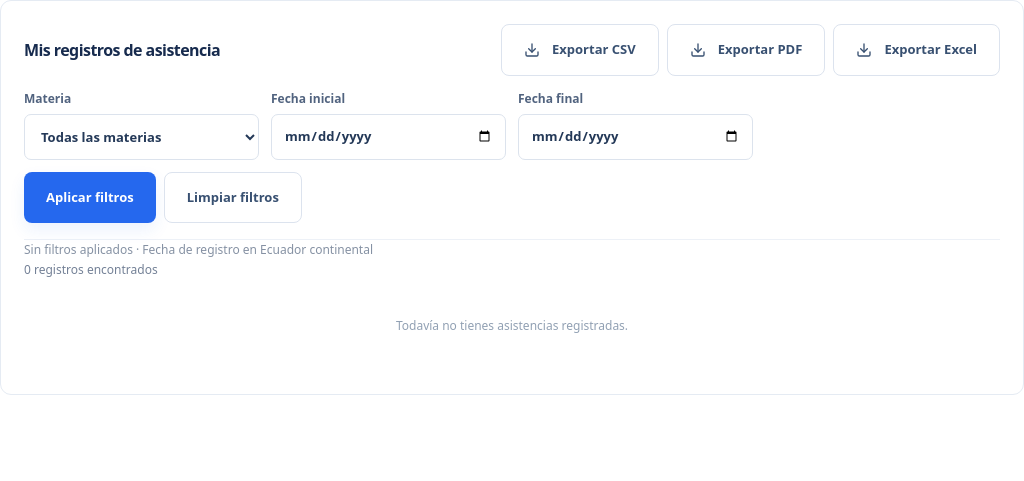
announces Excel errors and allows retry on empty results
Expected: the text "0 registros encontrados" is shown, [24,261,158,278]
Click the button "Exportar Excel" at x=917, y=50, box [833,24,1000,76]
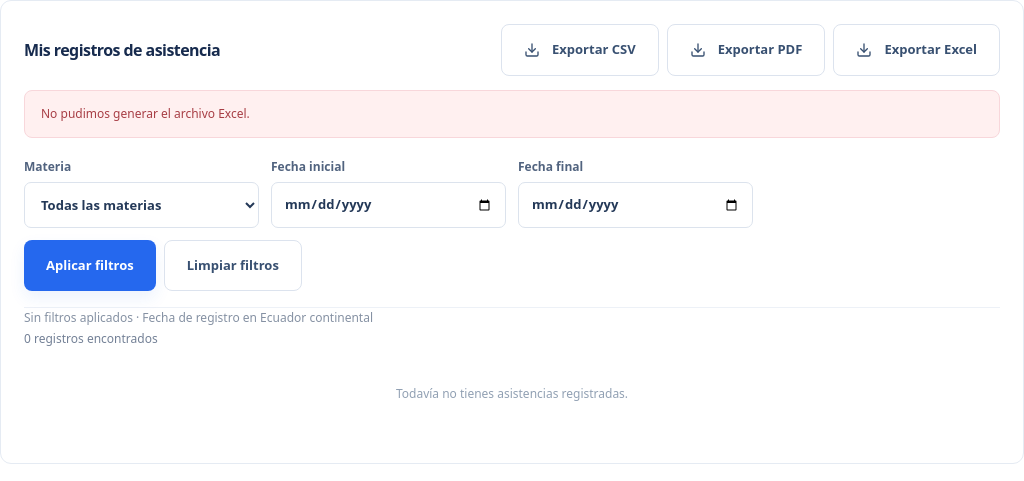
Expected: the message "No pudimos generar el archivo Excel." is shown, [24,90,1000,138]
